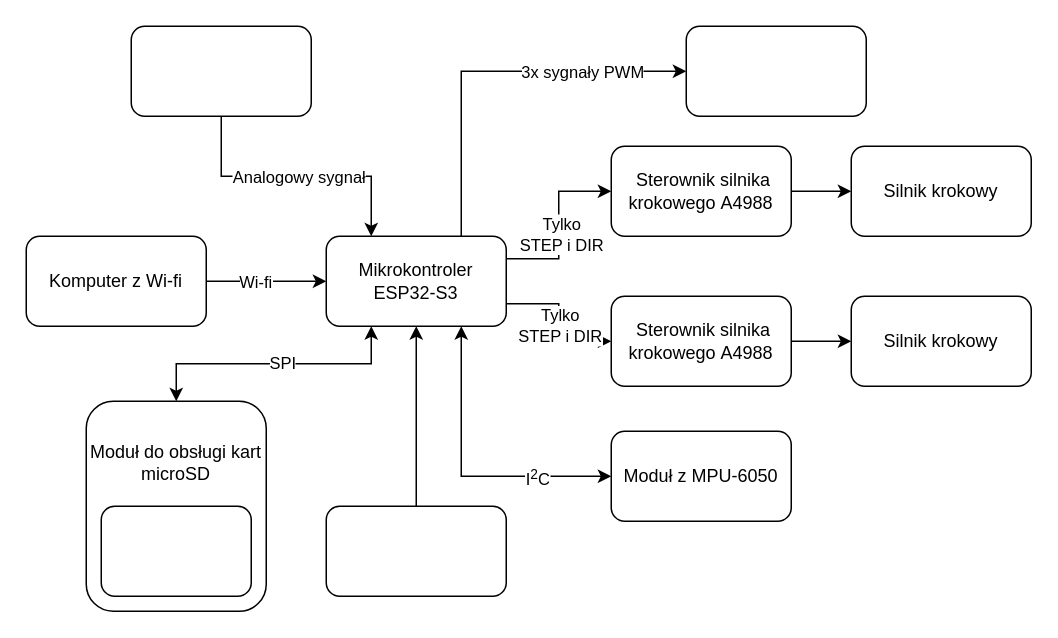
Image size: 1058x638. Some labels were removed from this diagram. Here are the shapes that lost their labels. From the top down, the centre of each, then its label:
At point 220,70: "Czujnik odbiciowy IR".
At point 775,70: "3x Silniki serwo SG90".
At point 175,550: "Karta microSD".
At point 415,550: "Guzik".
